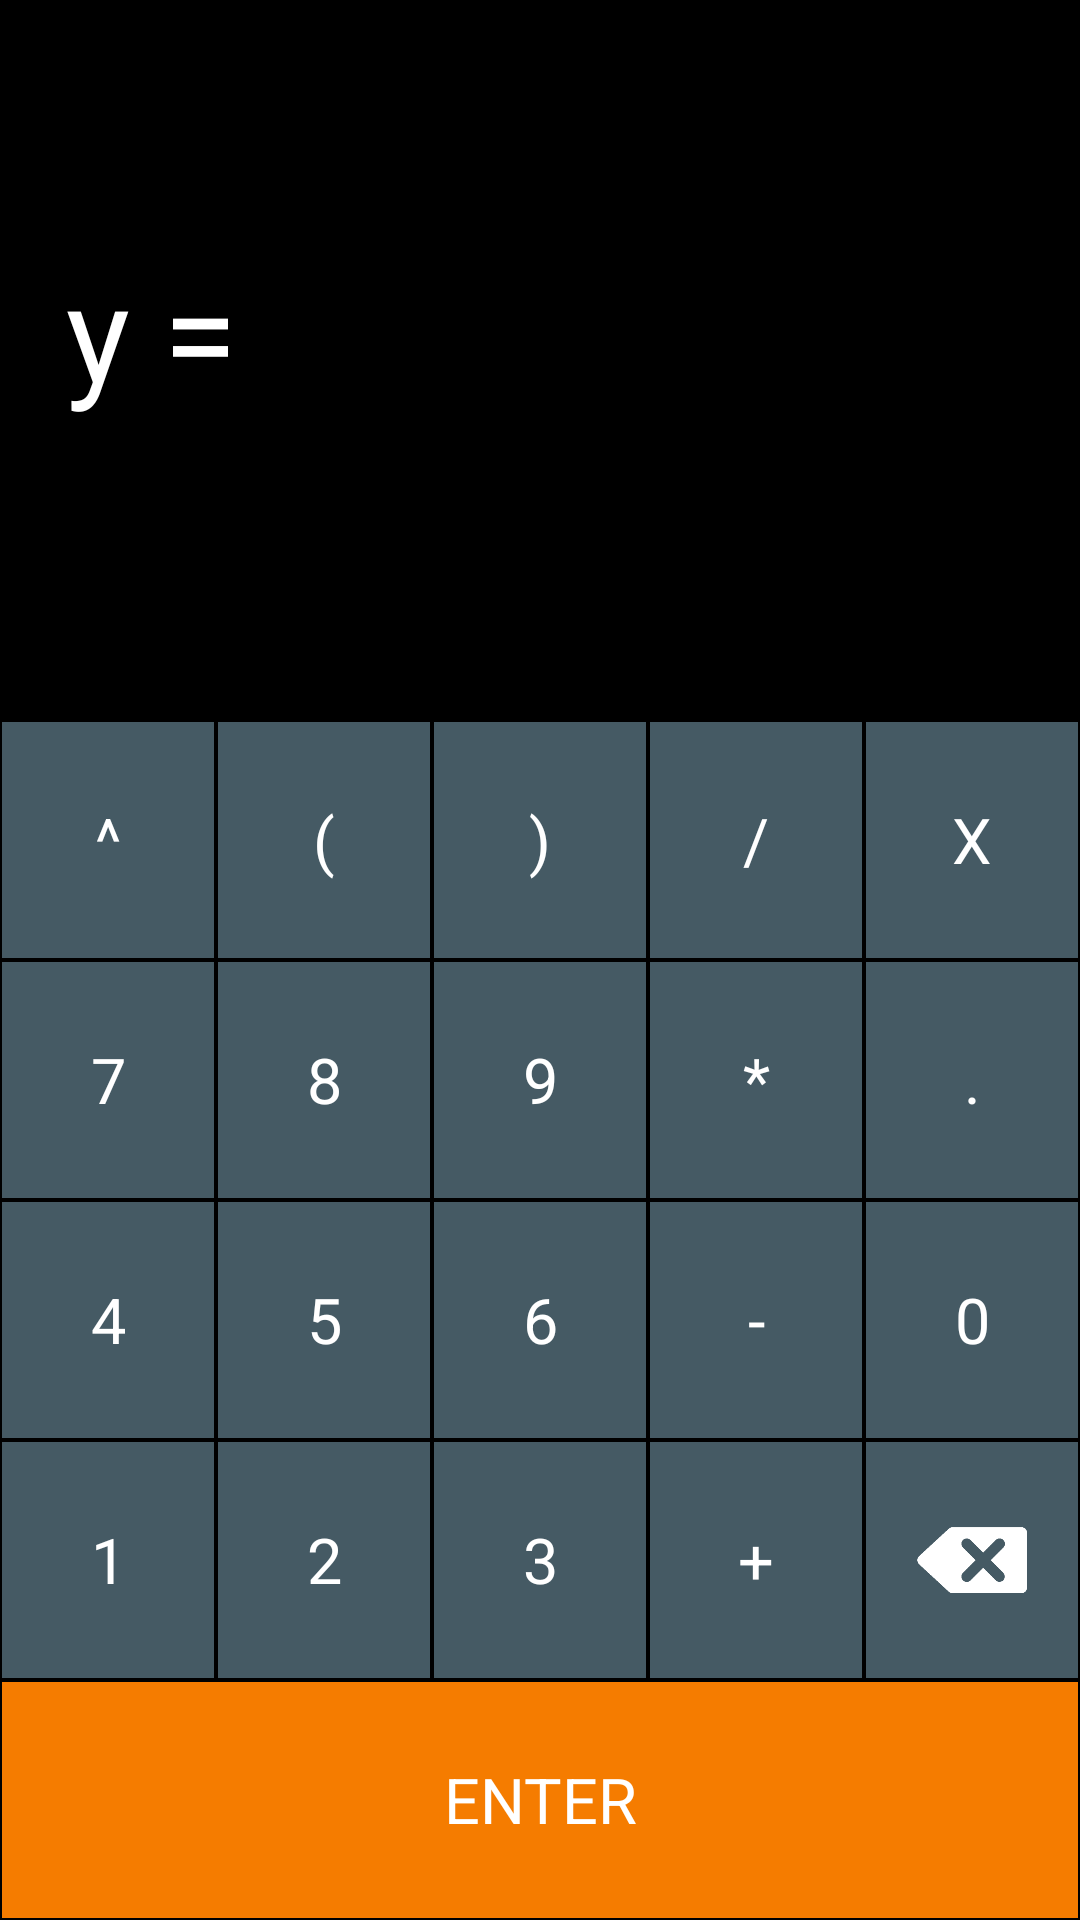

Named icons in this screenshot (1080px×1920px) and their bounding boxes, (x1, y1, x2, y2):
bssmall: (866, 1442, 1078, 1678)
